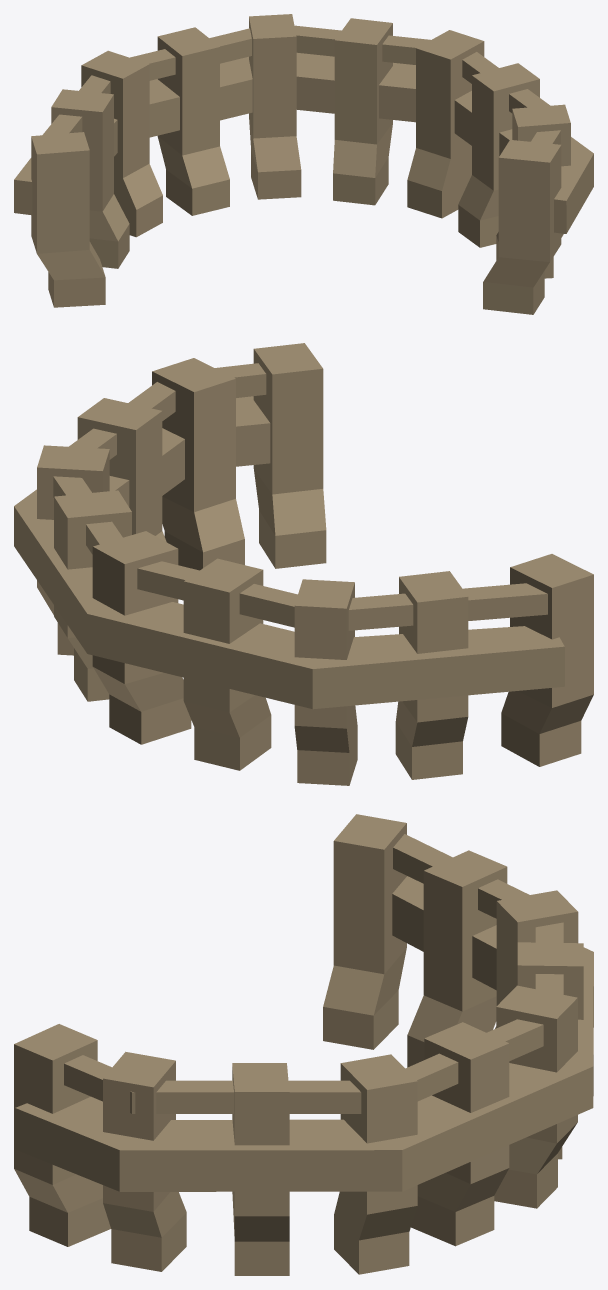
The model's file is DarkSandStoneWallLargeCurvedBalcony1.fbx.
The picture shows the model from 3 angles, top to bottom: view 1: azimuth 30°, elevation 25°; view 2: azimuth 150°, elevation 25°; view 3: azimuth 270°, elevation 25°; orthographic projection. The views are drawn at different scales.
Visible parts, largest first — view 1: DarkSandStoneWallLargeCurvedBalcony1; view 2: DarkSandStoneWallLargeCurvedBalcony1; view 3: DarkSandStoneWallLargeCurvedBalcony1.
Part boxes in pixels (x1=…): DarkSandStoneWallLargeCurvedBalcony1: x1=14, y1=14, x2=593, y2=314; DarkSandStoneWallLargeCurvedBalcony1: x1=14, y1=343, x2=593, y2=785; DarkSandStoneWallLargeCurvedBalcony1: x1=14, y1=814, x2=593, y2=1275.
Bounding box in the file's own units: 1279 × 407 × 1109.
